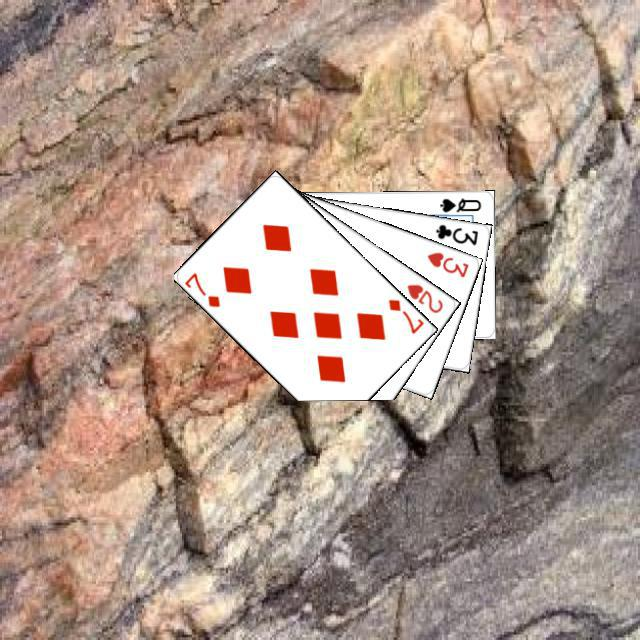2h: (402, 279, 445, 315)
3c: (431, 219, 480, 247)
3h: (422, 247, 470, 279)
7d: (383, 294, 425, 336), (180, 267, 222, 309)
Qs: (435, 193, 482, 214)
